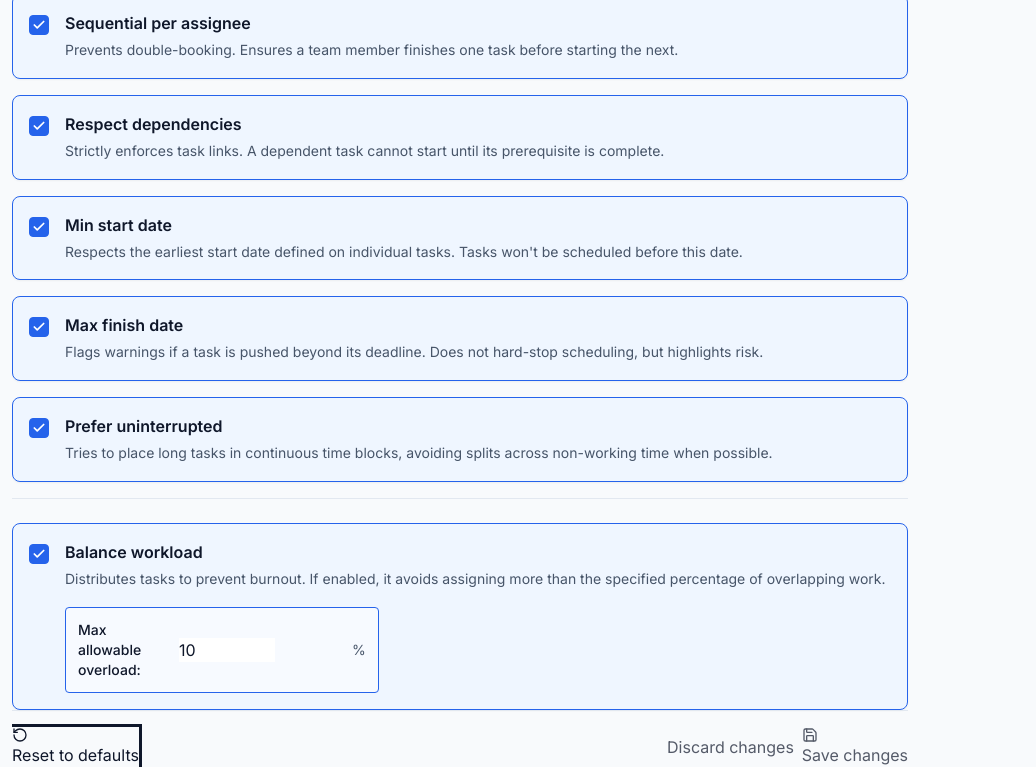
Test: SchedulingRulesSettings › blocks a zero direct divisor before sending a save request
(page scrolled)
Replace the text in the number field named "Max allowable overload:" with "11". click: (227, 650)
box: top-left (179, 638), bottom-right (275, 662)
(page scrolled)
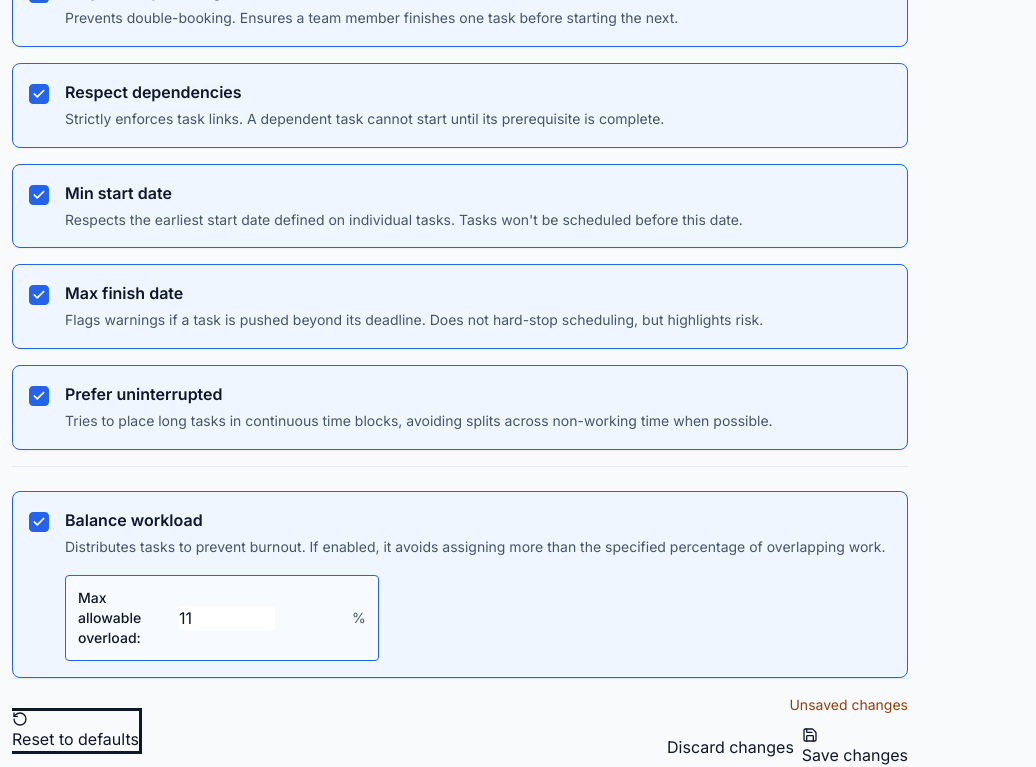
Click the button "Save changes". click: (855, 746)
box: top-left (802, 726), bottom-right (908, 766)
(page scrolled)
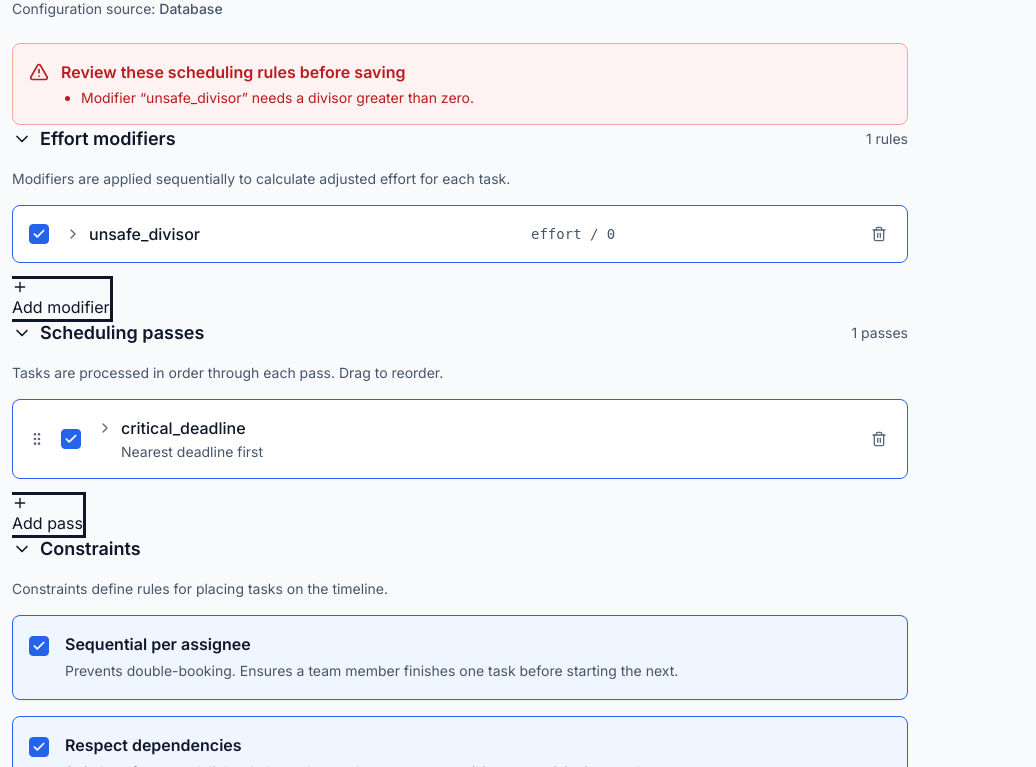
Expected: the message shows "Modifier “unsafe_divisor” needs a divisor greater than zero.", top-left (81, 89), bottom-right (474, 106)
